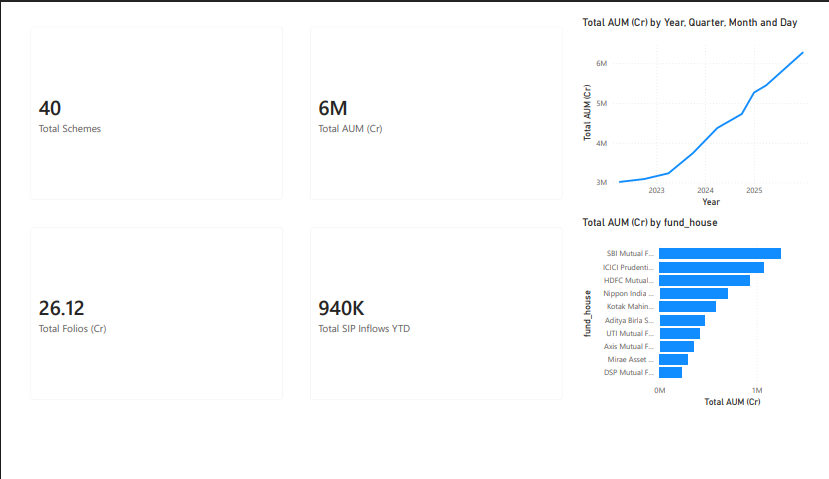

What the dashboard file says about the page in this screenshot:
{"tool":"powerbi","page":{"name":"Industry Overview","canvas":[1280,720],"ordinal":0},"visuals":[{"type":"cardVisual","fields":{"Data":["dim_fund.Total Schemes"]},"box":[8.3,0,437.7,309.7],"z":0},{"type":"cardVisual","fields":{"Data":["dim_industry_folio_count.Total Folios (Cr)"]},"box":[8,320,438,310],"z":1000},{"type":"cardVisual","fields":{"Data":["dim_aum_by_fund_house.Total AUM (Cr)"]},"box":[456,0,438,310],"z":2000},{"type":"cardVisual","fields":{"Data":["dim_monthly_sip_inflows.Total SIP Inflows YTD"]},"box":[456,320,438,310],"z":3000},{"type":"lineChart","fields":{"Y":["dim_aum_by_fund_house.Total AUM (Cr)"],"Category":["dim_aum_by_fund_house.date.Variation.Date Hierarchy.Year","dim_aum_by_fund_house.date.Variation.Date Hierarchy.Quarter","dim_aum_by_fund_house.date.Variation.Date Hierarchy.Month","dim_aum_by_fund_house.date.Variation.Date Hierarchy.Day"]},"box":[904,0,376,310],"z":4000},{"type":"barChart","fields":{"Category":["dim_aum_by_fund_house.fund_house"],"Y":["dim_aum_by_fund_house.Total AUM (Cr)"]},"box":[904,320,376,310],"z":5000}]}

Visuals, with their boxes in screenshot pixels (x1, y1, x2, y2), scaled from the page's 1280x720 canvas onto the 829x479 screenshot:
cardVisual - dim_fund.Total Schemes: pyautogui.locateOnScreen(5, 0, 289, 206)
cardVisual - dim_industry_folio_count.Total Folios (Cr): pyautogui.locateOnScreen(5, 213, 289, 419)
cardVisual - dim_aum_by_fund_house.Total AUM (Cr): pyautogui.locateOnScreen(295, 0, 579, 206)
cardVisual - dim_monthly_sip_inflows.Total SIP Inflows YTD: pyautogui.locateOnScreen(295, 213, 579, 419)
lineChart - dim_aum_by_fund_house.Total AUM (Cr) x dim_aum_by_fund_house.date.Variation.Date Hierarchy.Year: pyautogui.locateOnScreen(585, 0, 828, 206)
barChart - dim_aum_by_fund_house.fund_house x dim_aum_by_fund_house.Total AUM (Cr): pyautogui.locateOnScreen(585, 213, 828, 419)
